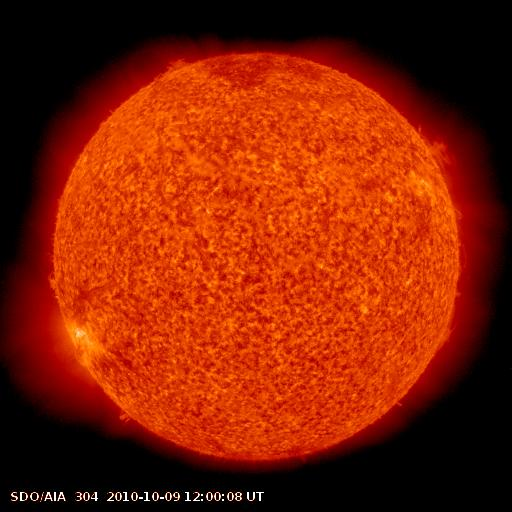prominence: (414, 119, 471, 183), (144, 51, 206, 82), (447, 230, 473, 302), (36, 263, 74, 309), (424, 320, 459, 363), (104, 400, 144, 435)
